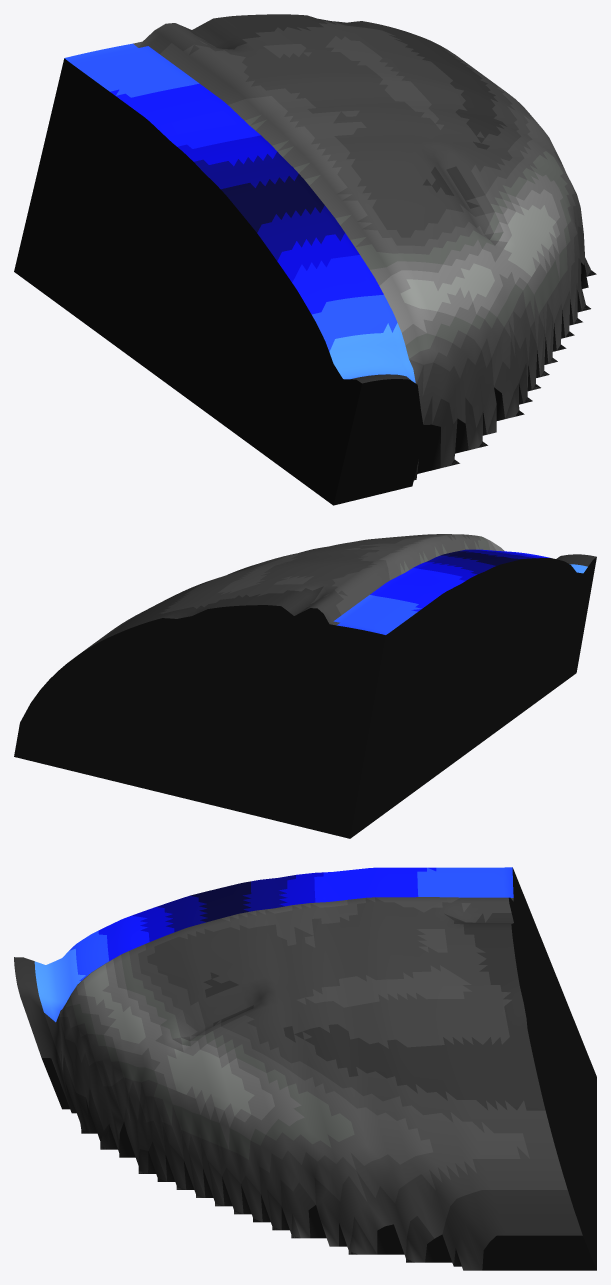
File: time_capsule_94.glb
3 renders of one model, top to bottom at view 1: azimuth 30°, elevation 25°; view 2: azimuth 150°, elevation 25°; view 3: azimuth 270°, elevation 25°, orthographic. The views are drawn at different scales.
Visible parts, largest first — view 1: time_capsule_94; view 2: time_capsule_94; view 3: time_capsule_94.
Part boxes in pixels (x1,y1,x2,y2): time_capsule_94: [14, 14, 596, 505]; time_capsule_94: [14, 534, 596, 838]; time_capsule_94: [14, 867, 596, 1270].
Bounding box in the file's own units: 24 × 12.72 × 30.52.
